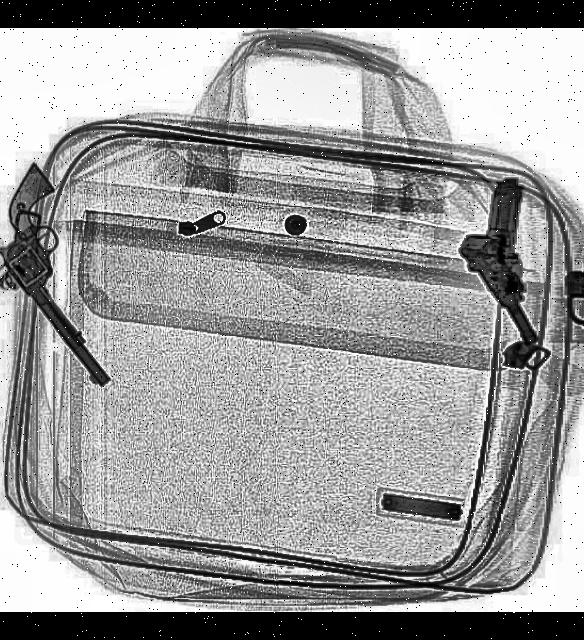Gun: (0, 176, 168, 387), (439, 173, 584, 351)
